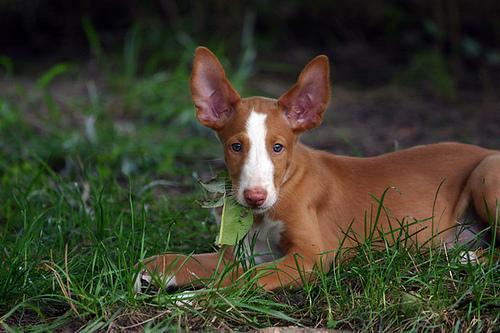Ibizan_hound: (135, 44, 499, 294)
